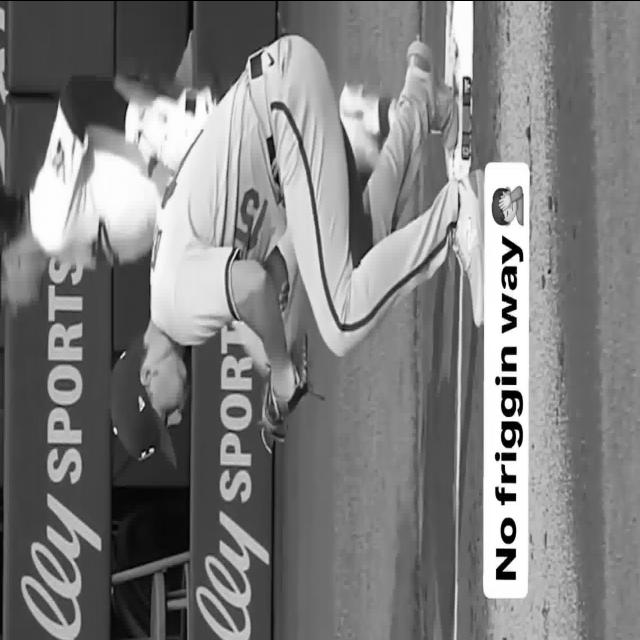base: (445, 0, 474, 178)
baseball_glove: (260, 371, 285, 451), (288, 333, 309, 411)
shoe: (406, 38, 459, 149), (339, 80, 396, 171), (452, 169, 484, 327)
